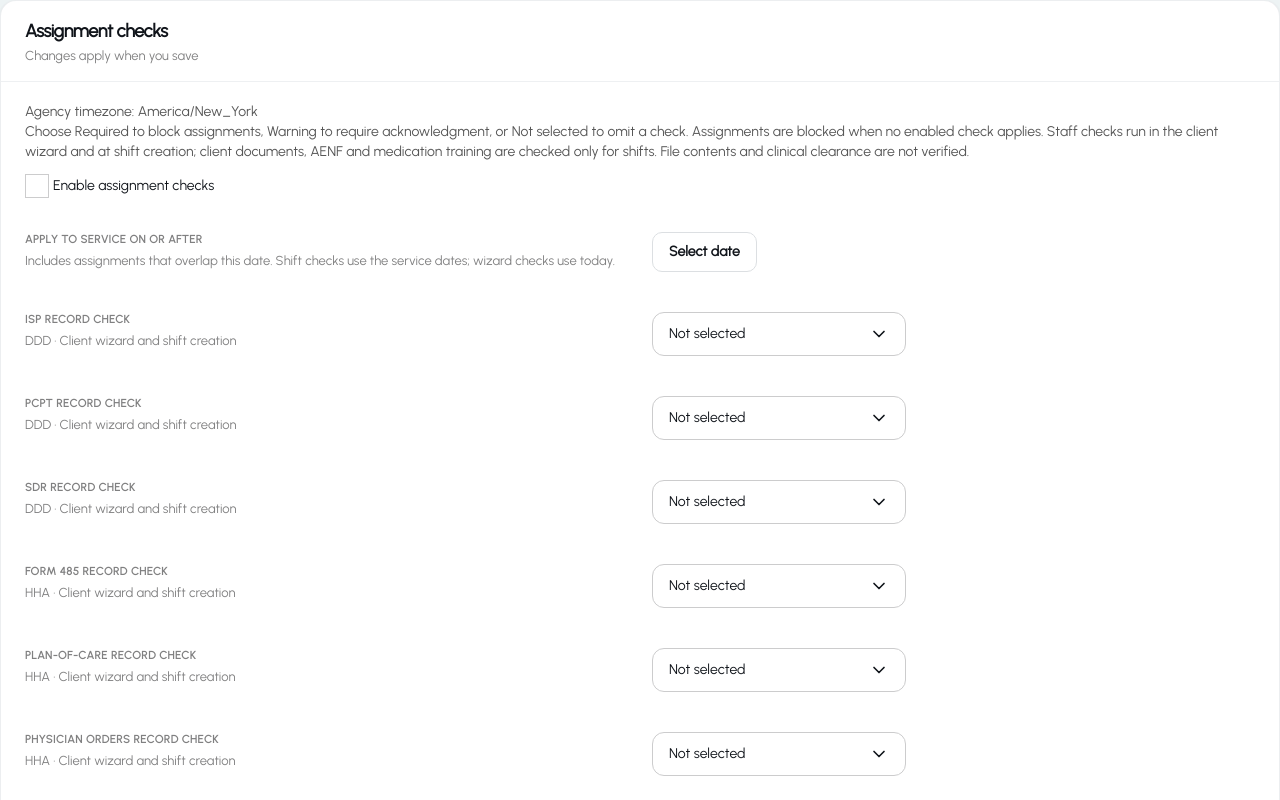
configures the seven warning-only document checks and saves only the remaining selection
Later steps or results of the test are not shown.
Expected: the text "Choose Required to block assignments" is shown, top-left (25, 123), bottom-right (1218, 160)
Expected: the text "Includes assignments that overlap this date" is shown, top-left (25, 253), bottom-right (615, 268)
Click the checkbox labelled "Enable assignment checks".
click(120, 186)  # box top-left (25, 174), bottom-right (214, 198)
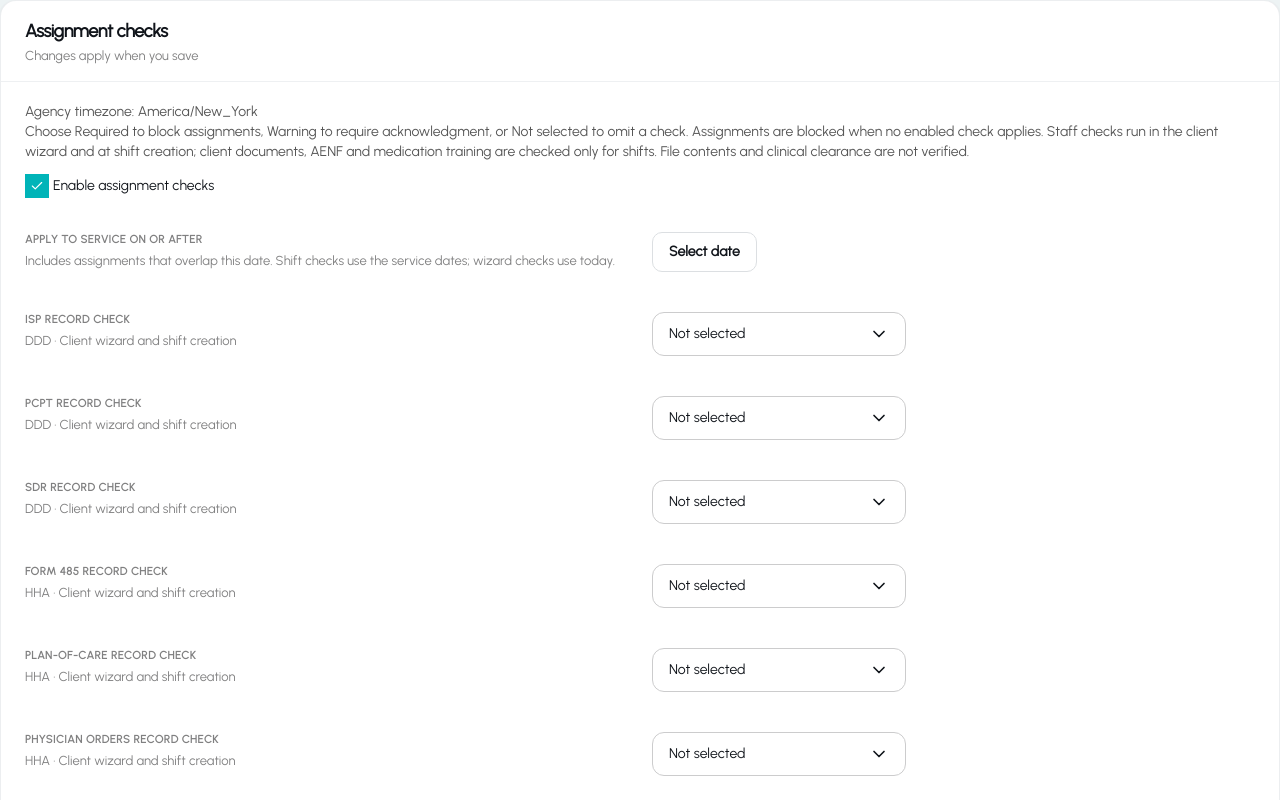
Press Enter in the dropdown named "ISP record check", box top-left (652, 312), bottom-right (906, 356)
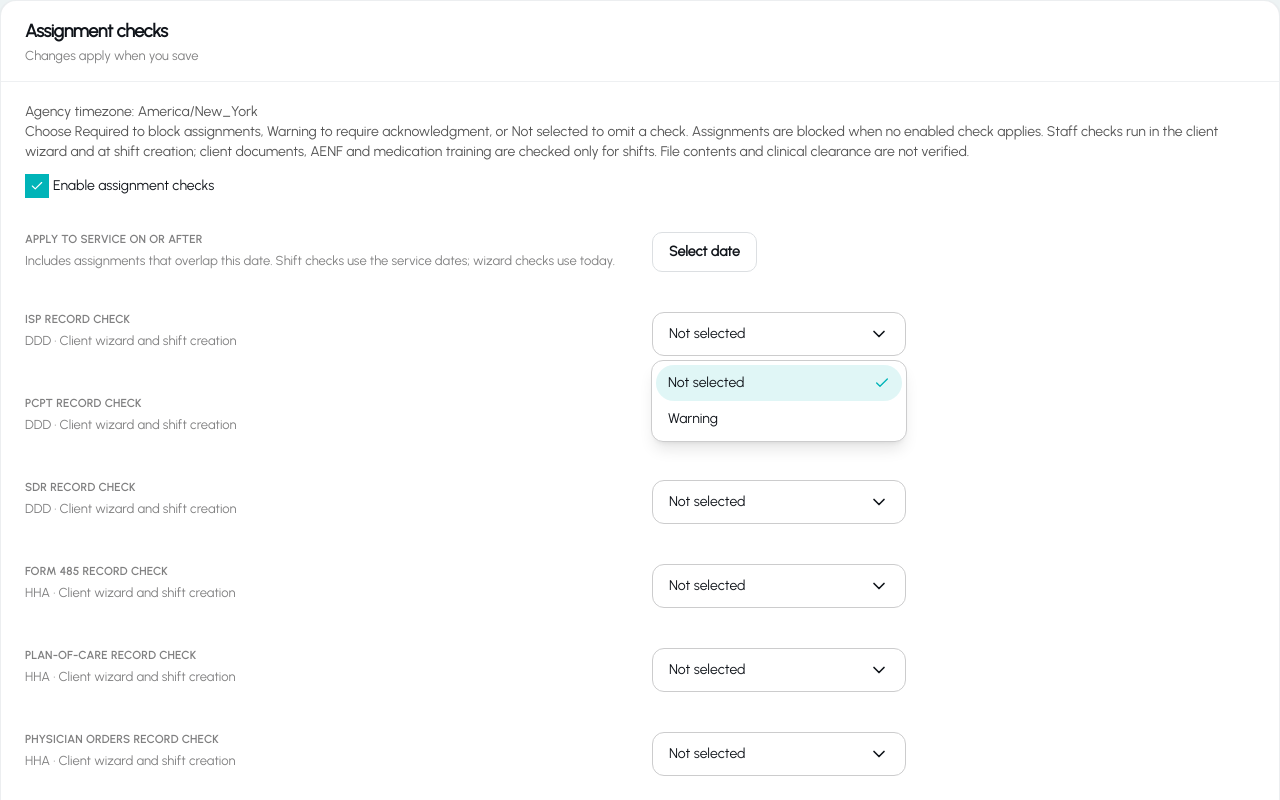
Expected: the option "Warning" is shown, top-left (668, 410), bottom-right (718, 427)
